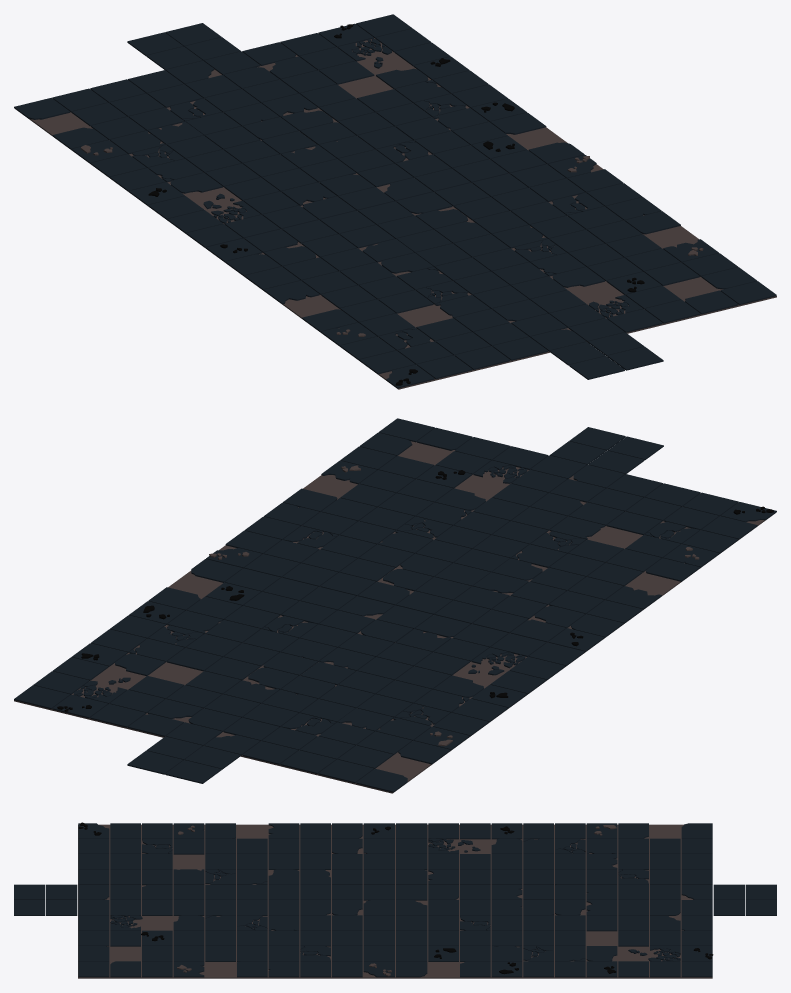
Rendered from GroundBattle_10.fbx.
3 views of the same model, one above another, from view 1: azimuth 30°, elevation 25°; view 2: azimuth 150°, elevation 25°; view 3: azimuth 270°, elevation 25° (orthographic). The views are drawn at different scales.
Visible parts, largest first — view 1: StoneSlabs, Ground, StoneSlabsSmall; view 2: StoneSlabs, Ground, StoneSlabsSmall; view 3: StoneSlabs, Ground, StoneSlabsSmall.
Part boxes in pixels (<box>): StoneSlabs: <box>14,14,776,388</box>; Ground: <box>18,38,776,389</box>; StoneSlabsSmall: <box>81,24,703,385</box>; StoneSlabs: <box>14,418,776,792</box>; Ground: <box>14,441,771,793</box>; StoneSlabsSmall: <box>57,465,773,746</box>; StoneSlabs: <box>14,823,776,977</box>; Ground: <box>78,824,712,978</box>; StoneSlabsSmall: <box>78,822,713,976</box>.
Bounding box in the file's own units: 1603 × 15 × 3367.
